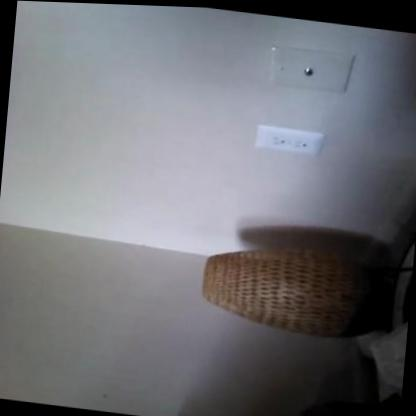OUTLET: (255, 124, 325, 157)
